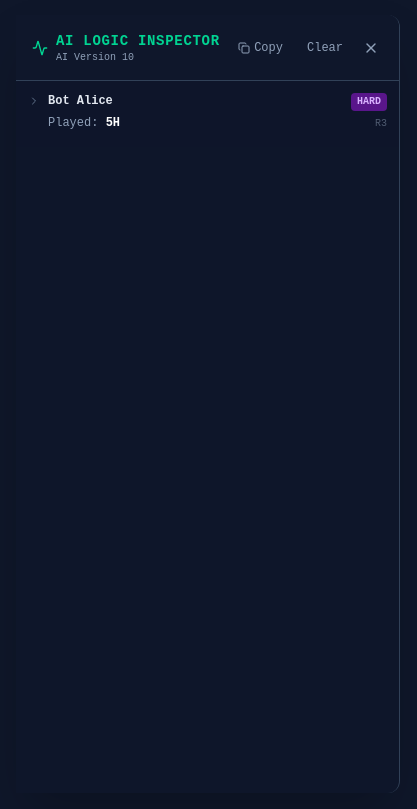
Test case: AIDebugOverlay Component › Copy Functionality › shows Copied text after copying
Click the button "Copy".
click(261, 48)  # box [230,36,291,60]
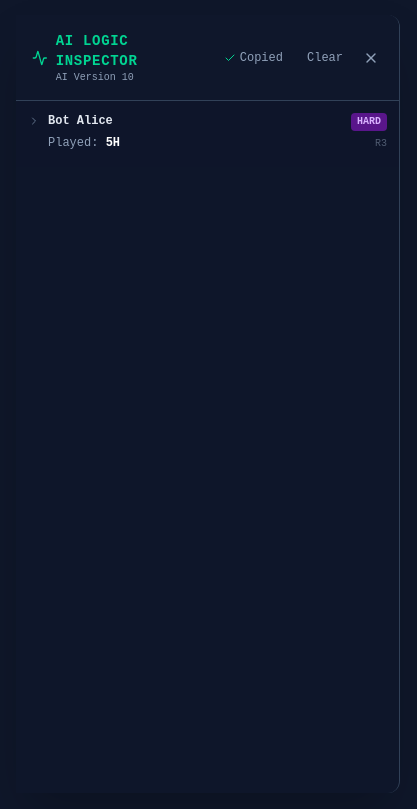
Check: the button "Copied" is shown, box [216,46,291,70]
